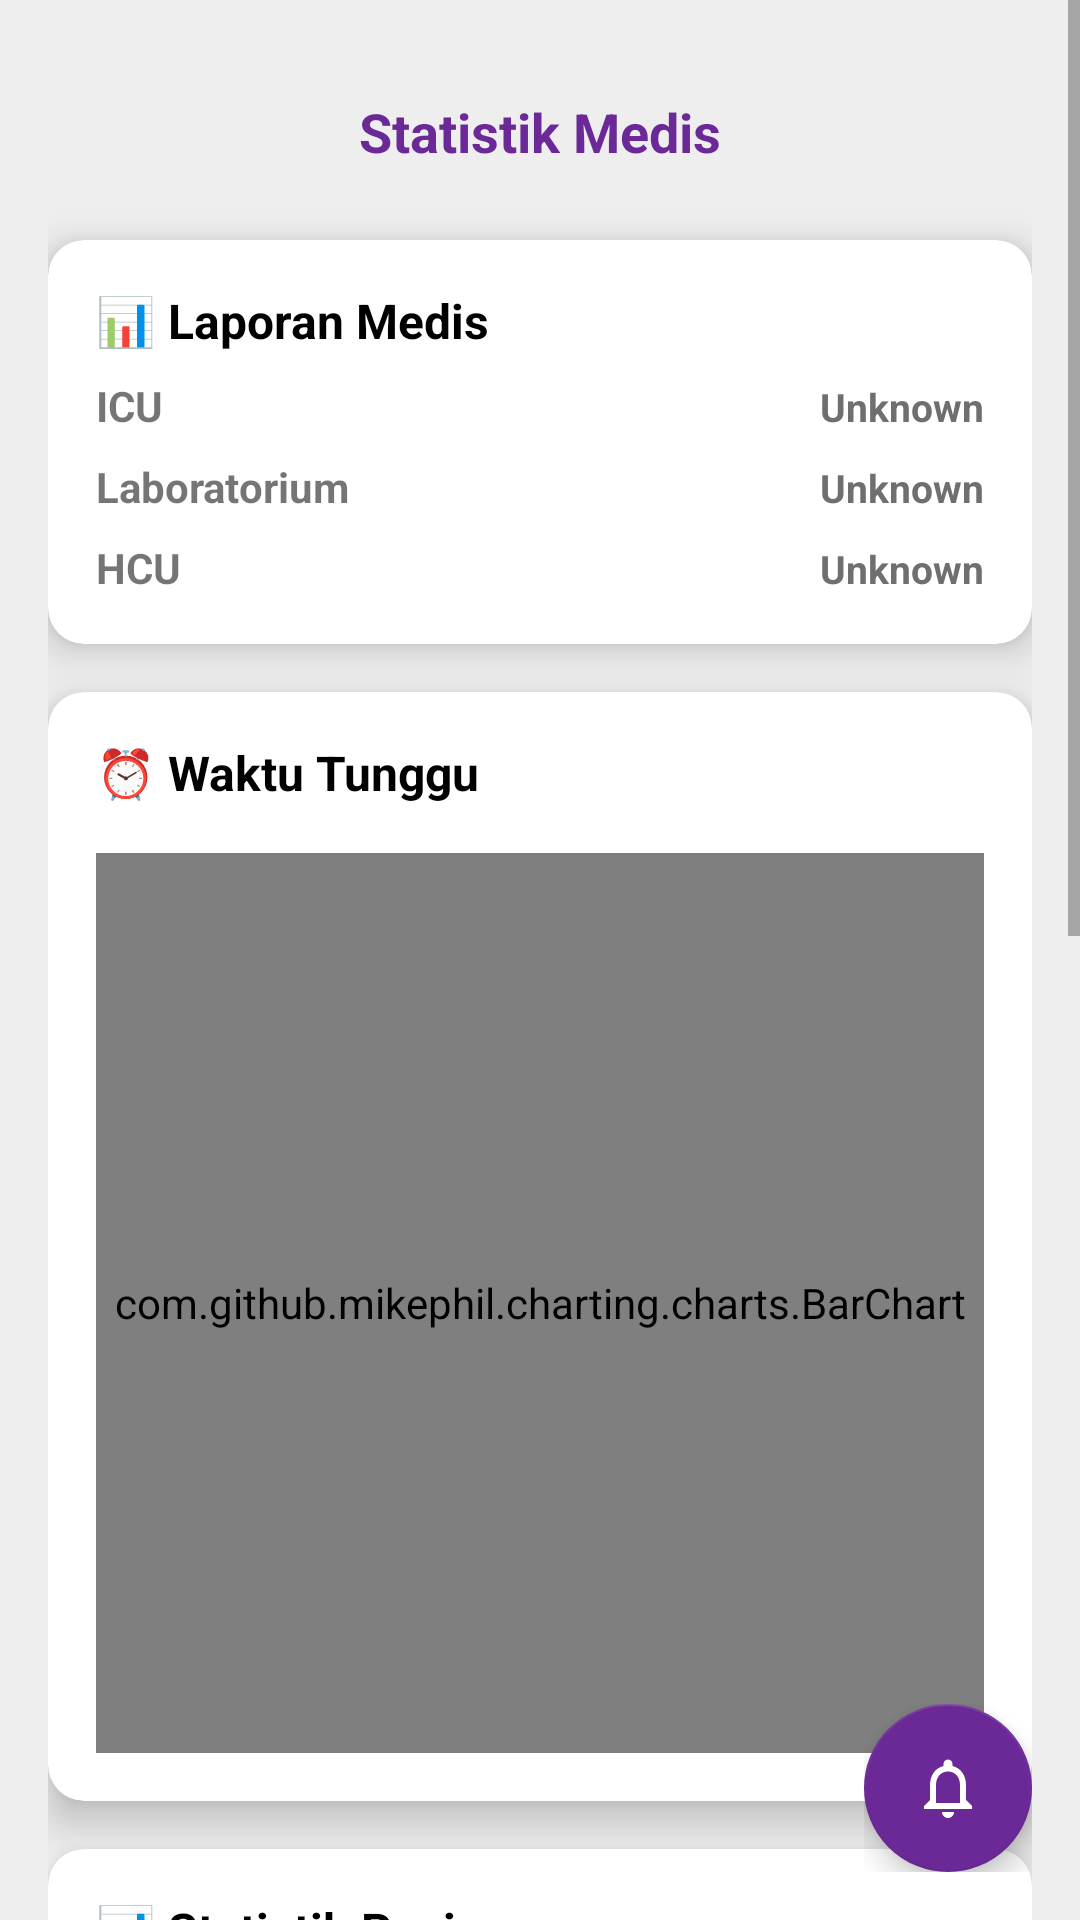

Where icons sit on this 1080 × 1920 app screen, as {"x1": x1, "y1": y1, "x2": x2, "y2": y2}:
Notification Button: {"x1": 864, "y1": 1704, "x2": 1032, "y2": 1872}
